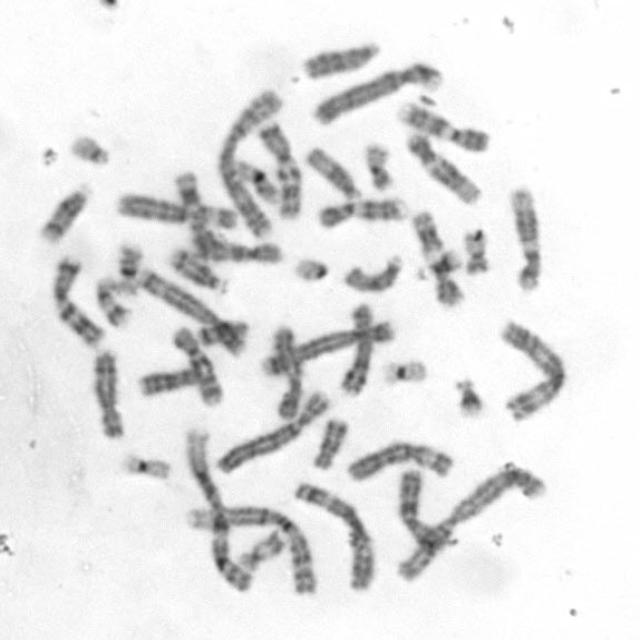A1: (181, 501, 320, 596), (180, 423, 254, 592)
A2: (389, 459, 549, 585), (212, 82, 284, 240)
A3: (289, 477, 378, 593), (495, 317, 569, 423)
B4: (210, 386, 334, 476), (308, 56, 446, 126)
B5: (134, 262, 251, 358), (256, 316, 398, 379)
C10: (395, 464, 456, 558), (167, 322, 225, 408)
C11: (408, 206, 466, 310), (170, 165, 234, 248)
C12: (401, 128, 484, 206), (505, 182, 544, 294)
C6: (342, 437, 457, 485), (111, 188, 241, 230)
C7: (46, 252, 107, 349), (254, 115, 306, 222)
C8: (334, 299, 376, 398), (88, 346, 127, 442)
C9: (394, 98, 491, 154), (313, 192, 412, 231)
D13: (299, 36, 382, 81), (133, 361, 205, 400)
D14: (34, 180, 94, 244), (165, 243, 230, 296)
D15: (301, 143, 365, 202), (339, 248, 404, 296)
E16: (231, 154, 281, 205), (111, 238, 145, 298)
E17: (233, 524, 289, 572), (91, 272, 134, 330)
E18: (308, 414, 349, 471), (193, 315, 251, 348)
F19: (117, 447, 174, 483), (378, 354, 429, 388)
F20: (358, 137, 397, 193), (458, 226, 491, 276)
G21: (411, 245, 463, 282), (449, 374, 486, 421)
G22: (66, 131, 111, 168), (289, 252, 333, 284)
X: (266, 322, 304, 421)
